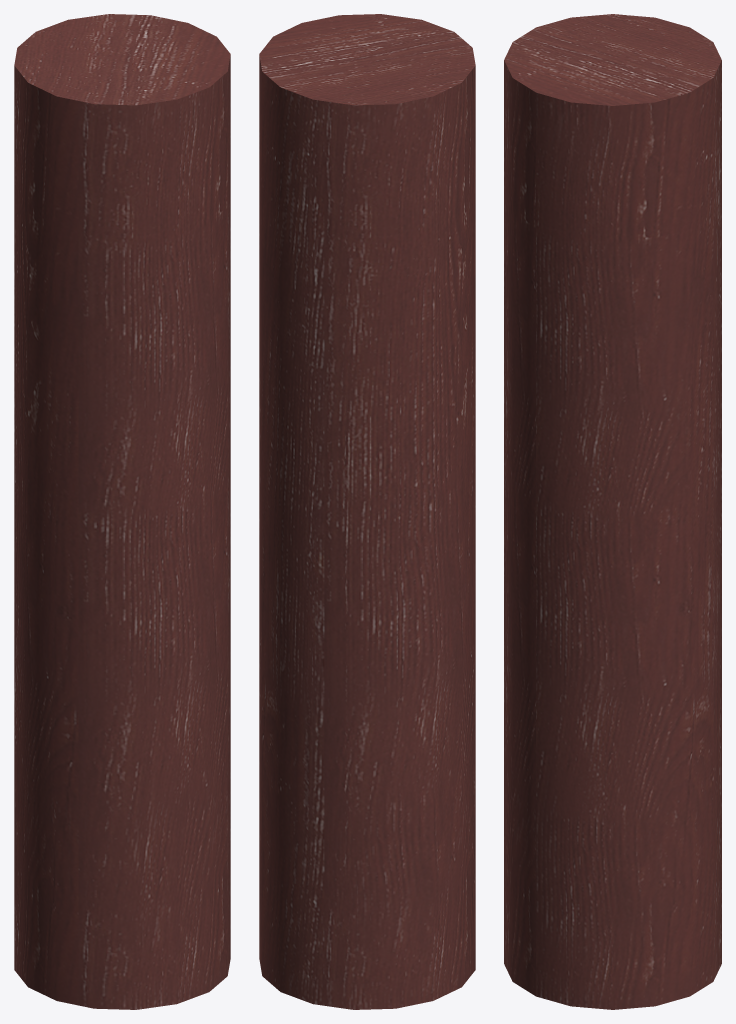
File: SM_Sun_Kak_Pillar.fbx
3 renders of one model, left to right at view 1: azimuth 30°, elevation 25°; view 2: azimuth 150°, elevation 25°; view 3: azimuth 270°, elevation 25°, orthographic.
Visible parts, largest first — view 1: SM_Sun_Kak_Pillar; view 2: SM_Sun_Kak_Pillar; view 3: SM_Sun_Kak_Pillar.
Boxes of the visible parts, bbox=[...] form: SM_Sun_Kak_Pillar: bbox=[14, 14, 230, 1009]; SM_Sun_Kak_Pillar: bbox=[259, 14, 475, 1009]; SM_Sun_Kak_Pillar: bbox=[504, 14, 721, 1009].
Bounding box in the file's own units: 47.75 × 219 × 47.75.
